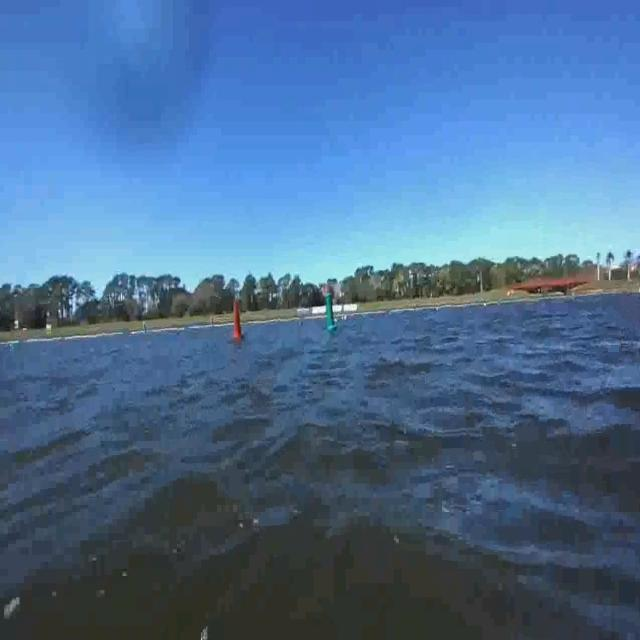green-column-buoy: (320, 280, 345, 332)
red-column-buoy: (228, 300, 252, 361)
